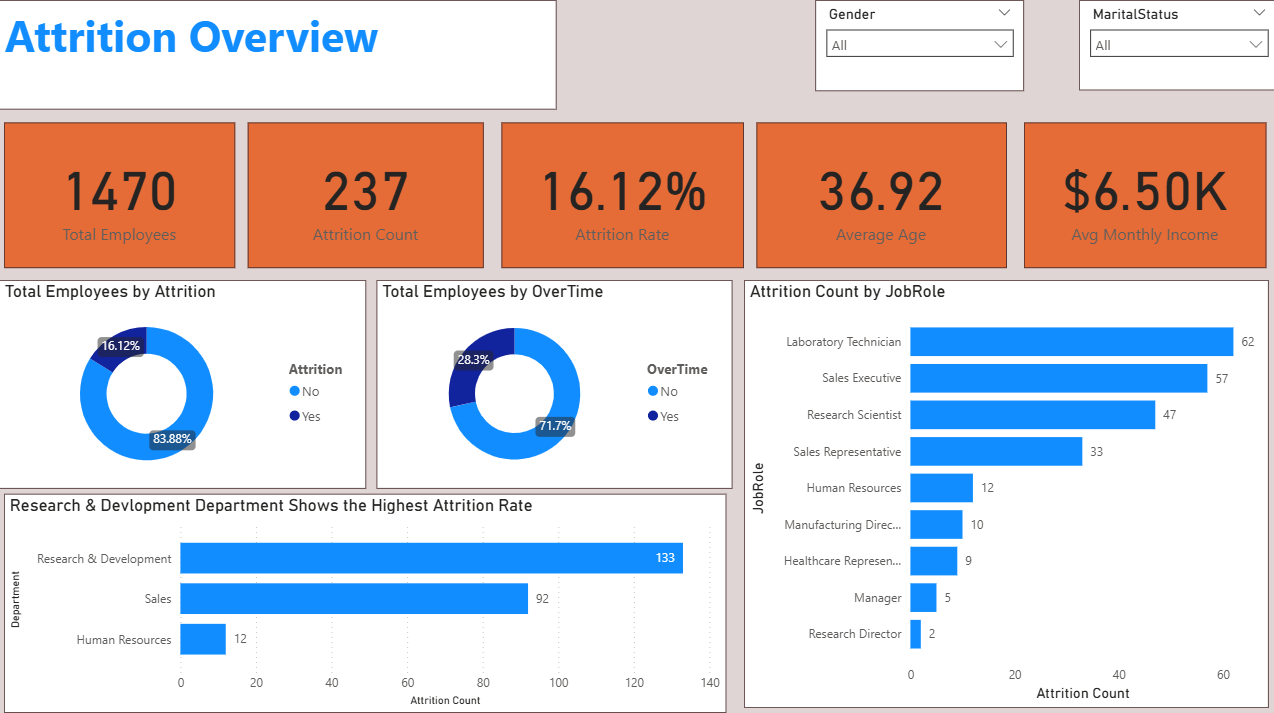

What the dashboard file says about the page in this screenshot:
{"tool":"powerbi","page":{"name":"Attrition Overview","canvas":[1280,720],"ordinal":0},"visuals":[{"type":"card","fields":{"Values":["HR-Employee-Attrition.Total Employees"]},"box":[0,146.8,255.2,145.5],"z":0},{"type":"card","fields":{"Values":["HR-Employee-Attrition.Attrition Count"]},"box":[244.3,146.8,264.8,145.5],"z":1000},{"type":"card","fields":{"Values":["HR-Employee-Attrition.Attrition Percentage"]},"box":[489.9,146.8,297.8,145.5],"z":2000},{"type":"card","fields":{"Values":["HR-Employee-Attrition.Average Age"]},"box":[768.4,146.8,262.1,145.5],"z":3000},{"type":"card","fields":{"Values":["HR-Employee-Attrition.Avg Monthly Income"]},"box":[1025,146.8,255.2,145.5],"z":4000},{"type":"donutChart","fields":{"Y":["HR-Employee-Attrition.Total Employees"],"Category":["HR-Employee-Attrition.Attrition"]},"box":[0,292.3,366.4,208.6],"z":5000},{"type":"barChart","fields":{"Category":["HR-Employee-Attrition.Department"],"Y":["HR-Employee-Attrition.Attrition Count"]},"box":[0,500.9,732.8,219.6],"z":6000},{"type":"barChart","fields":{"Category":["HR-Employee-Attrition.JobRole"],"Y":["HR-Employee-Attrition.Attrition Count"]},"box":[732.8,292.3,547.5,428.1],"z":7000},{"type":"donutChart","fields":{"Y":["HR-Employee-Attrition.Total Employees"],"Category":["HR-Employee-Attrition.OverTime"]},"box":[377.4,292.3,355.4,208.6],"z":8000},{"type":"textbox","box":[0,0,966,146.8],"z":9000},{"type":"slicer","fields":{"Values":["HR-Employee-Attrition.Gender"]},"box":[871.4,0,208.6,90.6],"z":10000},{"type":"slicer","fields":{"Values":["HR-Employee-Attrition.MaritalStatus"]},"box":[1079.9,0,200.3,90.6],"z":11000}]}

Visuals, with their boxes in screenshot pixels (x1, y1, x2, y2), scaled from the page's 1280x720 canvas onto the 1274x713 screenshot:
card - HR-Employee-Attrition.Total Employees: [x1=0, y1=145, x2=254, y2=289]
card - HR-Employee-Attrition.Attrition Count: [x1=243, y1=145, x2=507, y2=289]
card - HR-Employee-Attrition.Attrition Percentage: [x1=488, y1=145, x2=784, y2=289]
card - HR-Employee-Attrition.Average Age: [x1=765, y1=145, x2=1026, y2=289]
card - HR-Employee-Attrition.Avg Monthly Income: [x1=1020, y1=145, x2=1273, y2=289]
donutChart - HR-Employee-Attrition.Total Employees x HR-Employee-Attrition.Attrition: [x1=0, y1=289, x2=365, y2=496]
barChart - HR-Employee-Attrition.Department x HR-Employee-Attrition.Attrition Count: [x1=0, y1=496, x2=729, y2=712]
barChart - HR-Employee-Attrition.JobRole x HR-Employee-Attrition.Attrition Count: [x1=729, y1=289, x2=1273, y2=712]
donutChart - HR-Employee-Attrition.Total Employees x HR-Employee-Attrition.OverTime: [x1=376, y1=289, x2=729, y2=496]
textbox: [x1=0, y1=0, x2=961, y2=145]
slicer - HR-Employee-Attrition.Gender: [x1=867, y1=0, x2=1075, y2=90]
slicer - HR-Employee-Attrition.MaritalStatus: [x1=1075, y1=0, x2=1273, y2=90]
